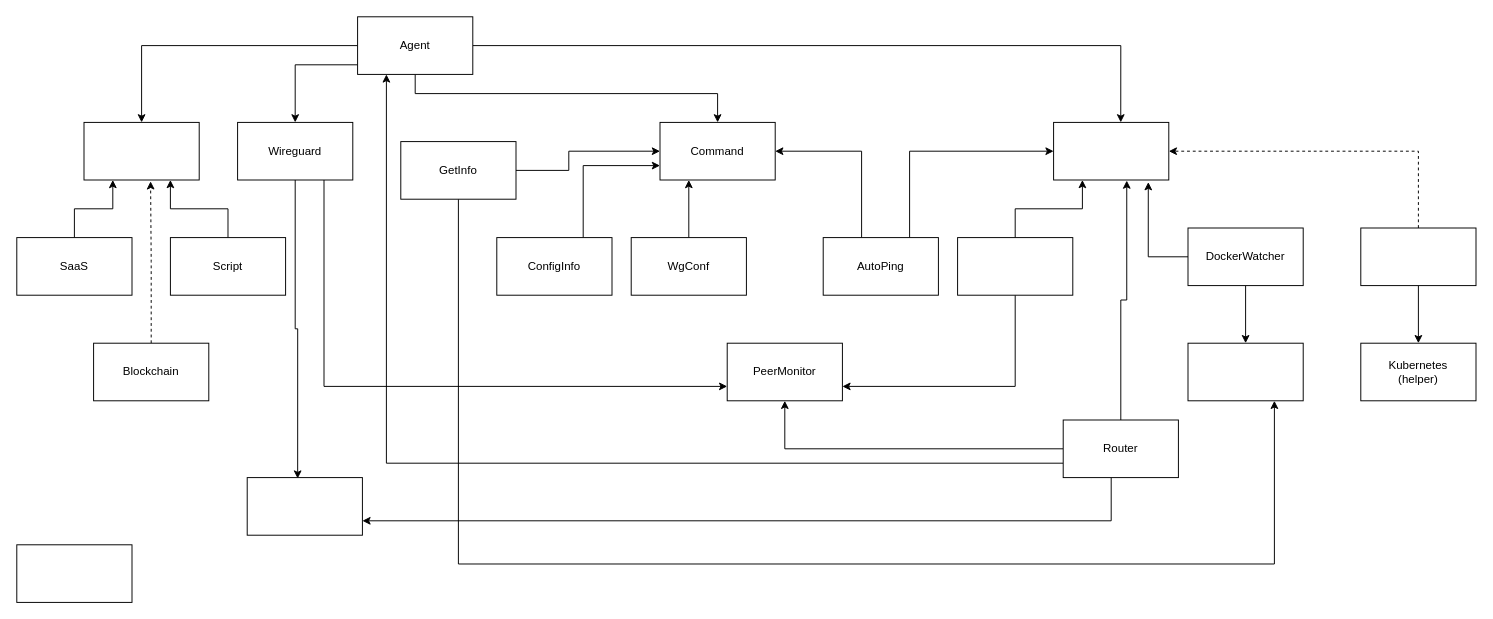
Some shapes in this 1493 by 619 pixel diagram are drawn without their labels. Each missing label, with the box of its shape:
Controller: (83, 121, 199, 180)
Docker (helper): (1187, 342, 1303, 401)
KubernetesWatcher: (1360, 227, 1476, 286)
Logger (used by all): (16, 544, 132, 602)
PeerData: (957, 237, 1073, 295)
SdnRouter: (246, 477, 362, 535)
Service: (1053, 121, 1169, 180)
